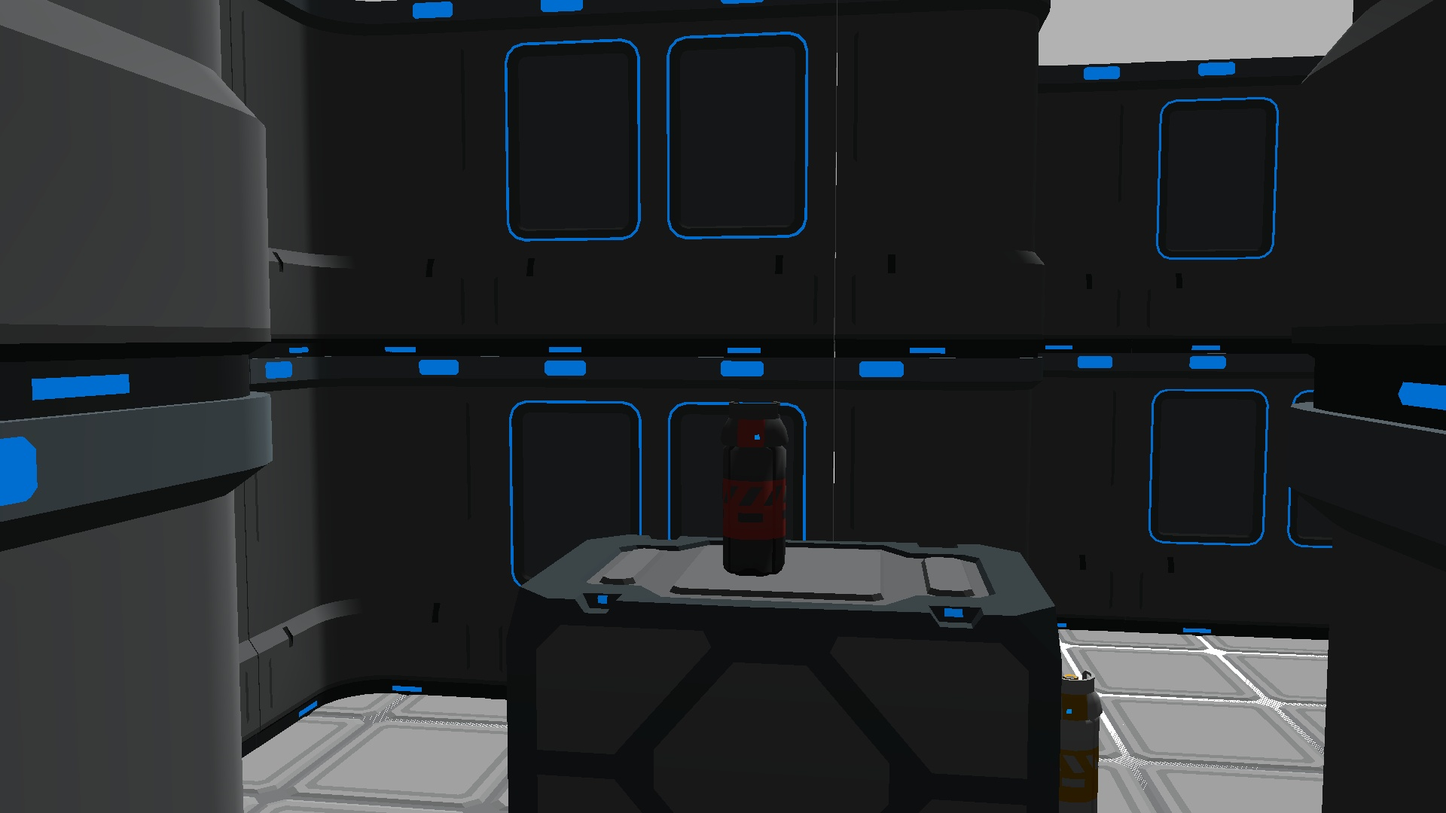red barrel: (724, 400, 788, 576)
yellow barrel: (1058, 670, 1102, 813)
